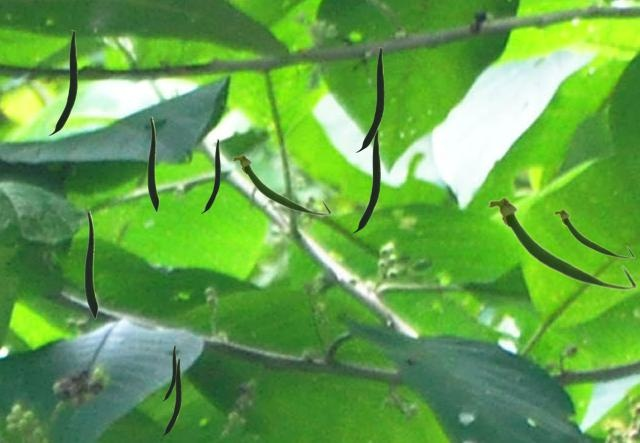french_bean: (486, 196, 637, 290), (231, 153, 331, 215), (553, 208, 634, 258), (356, 47, 383, 151), (49, 30, 76, 134), (352, 129, 379, 232), (161, 358, 180, 435), (84, 210, 97, 318), (201, 139, 219, 212), (147, 116, 158, 211), (162, 345, 175, 400)
